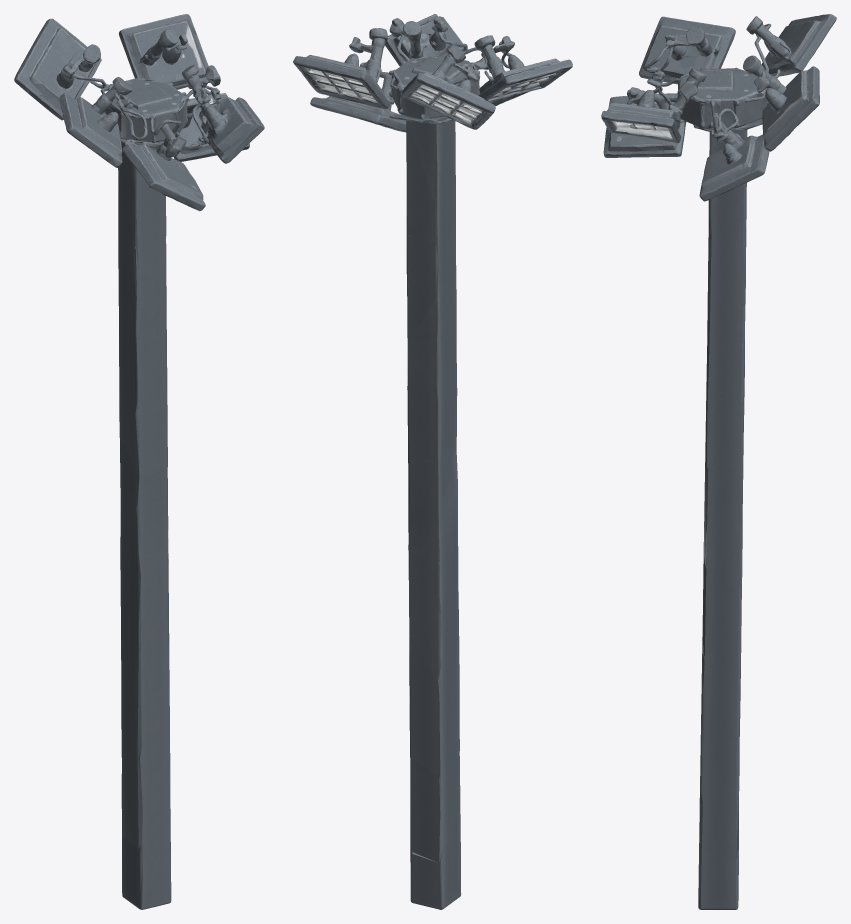
Rendered from floodlight.glb.
3 views of the same model, side by side, from view 1: azimuth 30°, elevation 25°; view 2: azimuth 150°, elevation 25°; view 3: azimuth 270°, elevation 25° (orthographic). The views are drawn at different scales.
Size of the model in its own units: 0.4819 by 1.9 by 0.4673.
1 material, 1 textured.
